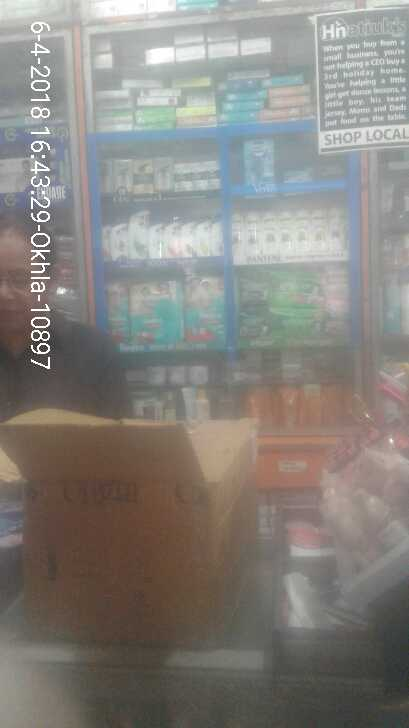venus: (242, 134, 279, 188), (283, 167, 313, 184)
